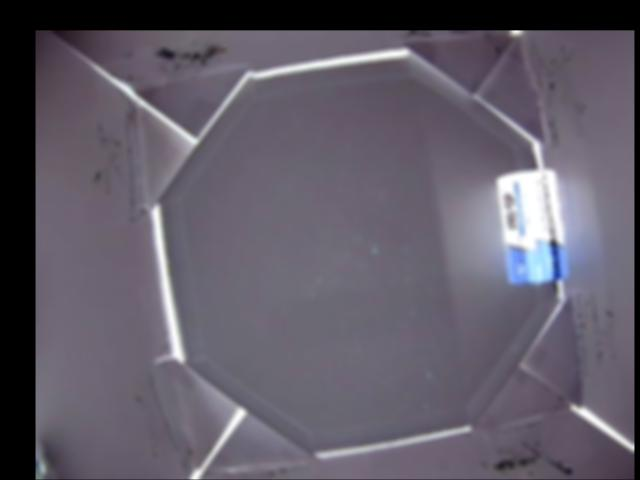Battery: (496, 167, 569, 284)
